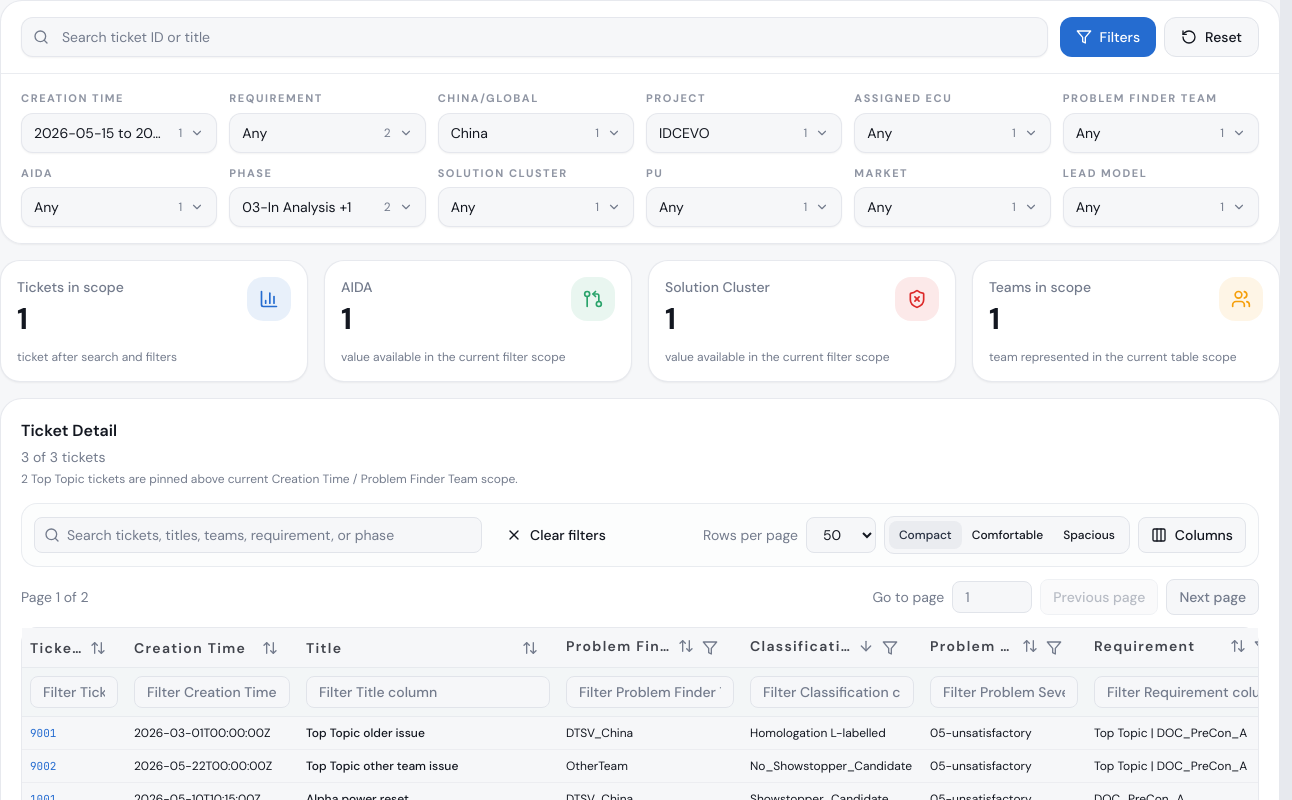
Test: MainDashboard split data loading › pins Top Topic tickets above the normal first page and hides them on page 2
expect the table named "Ticket detail table" is shown: met, box [22,628,1258,799]
expect the text "Top Topic older issue" is shown: met, box [306,725,425,741]
Click the button "Next page": [1213, 597] box [1166,579,1259,615]
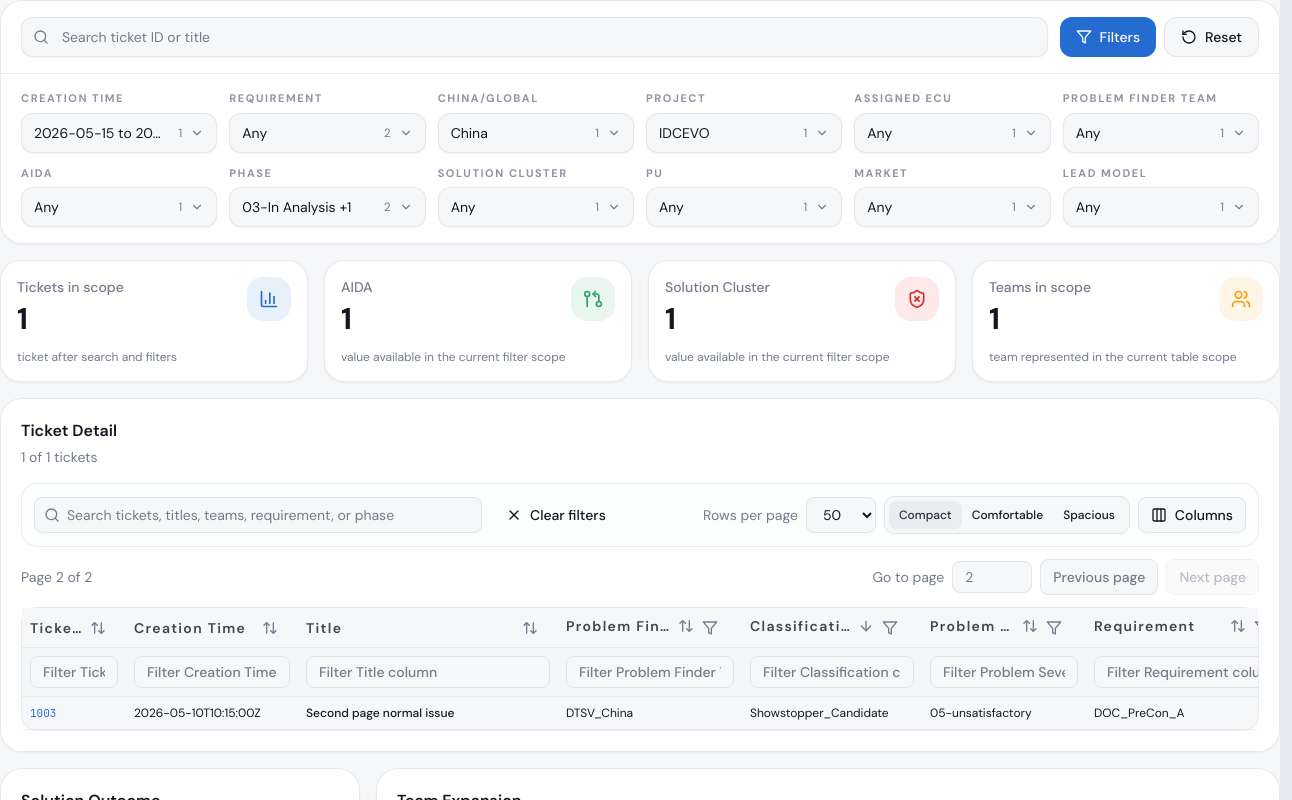
expect the text "Second page normal issue" is shown: met, box [306,705,454,721]
expect the text "Top Topic older issue" is gone: met
expect the text "Top Topic other team issue" is gone: met
